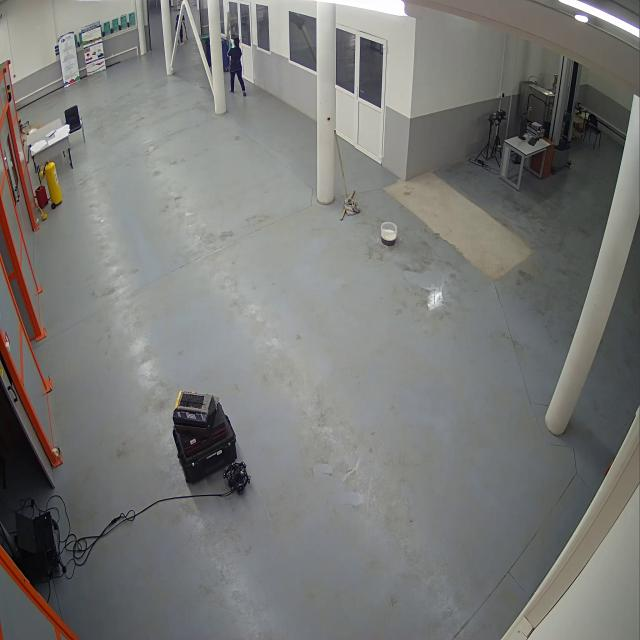NO-Hardhat: (234, 35, 241, 45)
Person: (224, 36, 248, 100), (174, 8, 188, 46)
